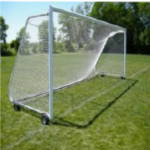goals: (9, 4, 129, 122)
